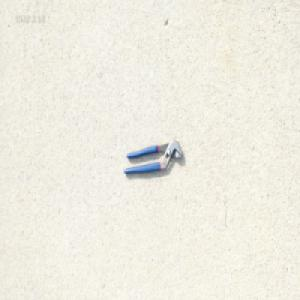Pliers: (121, 136, 182, 174)
